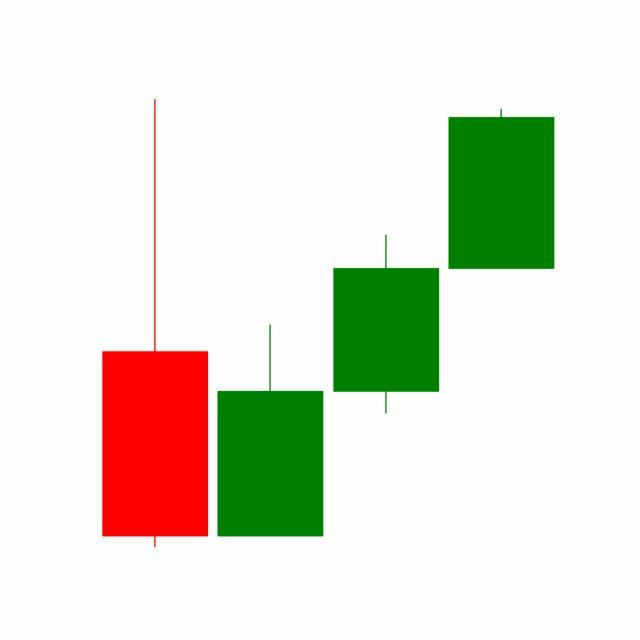Marubozu: (329, 234, 445, 417)
